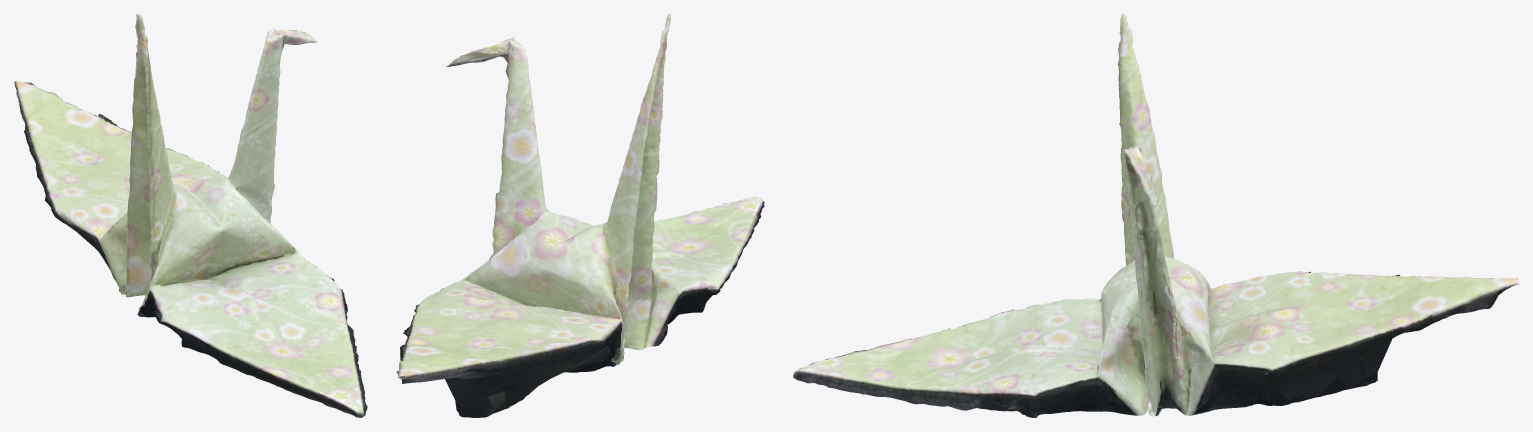
The model's file is japanese_origami_crane.glb.
3 views of the same model, side by side, from view 1: azimuth 30°, elevation 25°; view 2: azimuth 150°, elevation 25°; view 3: azimuth 270°, elevation 25° (orthographic). The views are drawn at different scales.
Visible parts, largest first — view 1: Object_2; view 2: Object_2; view 3: Object_2.
Boxes of the visible parts, box(x1,y1,x2,y2) form: Object_2: box(14, 14, 367, 417); Object_2: box(396, 14, 764, 417); Object_2: box(793, 14, 1518, 417).
Size of the model in its own units: 0.1375 by 0.1948 by 0.3913.
1 material, 1 textured.
